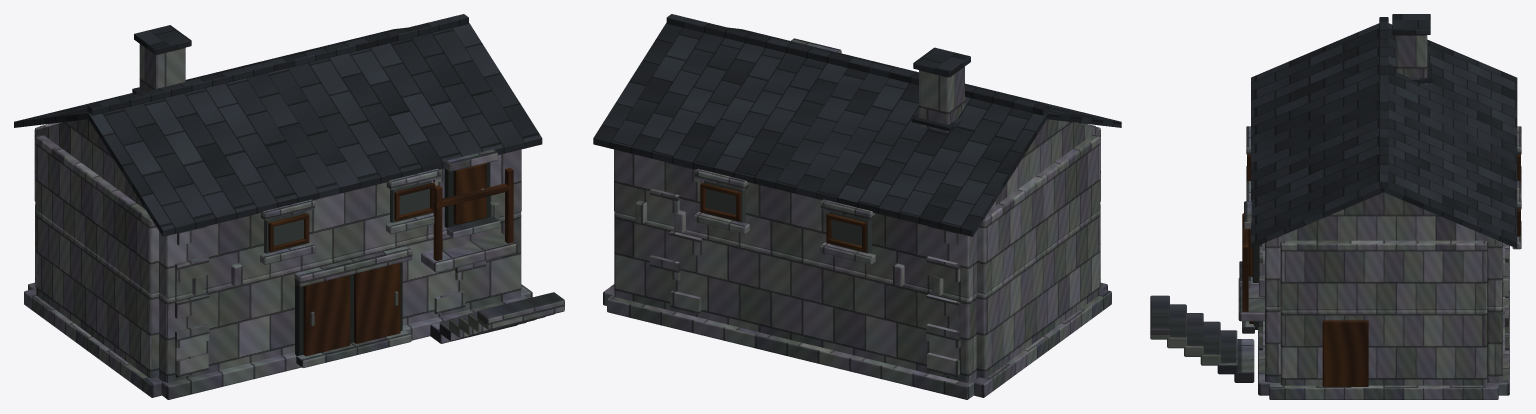
File: barrosan_house_gold_02.glb
3 renders of one model, left to right at view 1: azimuth 30°, elevation 25°; view 2: azimuth 150°, elevation 25°; view 3: azimuth 270°, elevation 25°, orthographic. The views are drawn at different scales.
Parts seen in each view (by area): view 1: LOD0_Granite, LOD0_Weathered_Slate, LOD1_Weathered_Slate, LOD0_Weathered_Timber, LOD0_Damp_Foundation, LOD1_Granite, LOD0_Recessed_Window, LOD0_Interior_Recess, LOD1_Weathered_Timber; view 2: LOD0_Granite, LOD0_Weathered_Slate, LOD1_Weathered_Slate, LOD0_Damp_Foundation, LOD1_Granite, LOD0_Recessed_Window, LOD0_Weathered_Timber, LOD1_Damp_Foundation; view 3: LOD0_Granite, LOD0_Weathered_Slate, LOD1_Weathered_Slate, LOD0_Damp_Foundation, LOD0_Weathered_Timber, LOD1_Granite, LOD0_Interior_Recess.
Boxes of the visible parts, x1,y1,x2,y2 form: LOD0_Granite: (34, 44, 564, 382); LOD0_Weathered_Slate: (14, 14, 542, 236); LOD1_Weathered_Slate: (14, 17, 542, 236); LOD0_Weathered_Timber: (268, 163, 513, 355); LOD0_Damp_Foundation: (24, 282, 532, 399); LOD1_Granite: (34, 44, 564, 382); LOD0_Recessed_Window: (264, 180, 431, 253); LOD0_Interior_Recess: (295, 162, 490, 355); LOD1_Weathered_Timber: (268, 164, 513, 355); LOD0_Granite: (614, 38, 1100, 382); LOD0_Weathered_Slate: (593, 14, 1121, 236); LOD1_Weathered_Slate: (593, 14, 1121, 236); LOD0_Damp_Foundation: (603, 282, 1111, 399); LOD1_Granite: (614, 38, 1100, 378); LOD0_Recessed_Window: (704, 180, 871, 253); LOD0_Weathered_Timber: (700, 182, 867, 252); LOD1_Damp_Foundation: (603, 286, 1111, 399); LOD0_Granite: (1150, 35, 1521, 385); LOD0_Weathered_Slate: (1251, 14, 1517, 248); LOD1_Weathered_Slate: (1251, 18, 1517, 247); LOD0_Damp_Foundation: (1258, 243, 1509, 399); LOD0_Weathered_Timber: (1242, 154, 1520, 386); LOD1_Granite: (1150, 35, 1521, 385); LOD0_Interior_Recess: (1252, 244, 1261, 329).
Size of what is drawn, in the model's own units: 10.3 by 7.26 by 9.71.
Materials: 7 (4 with a texture image).
